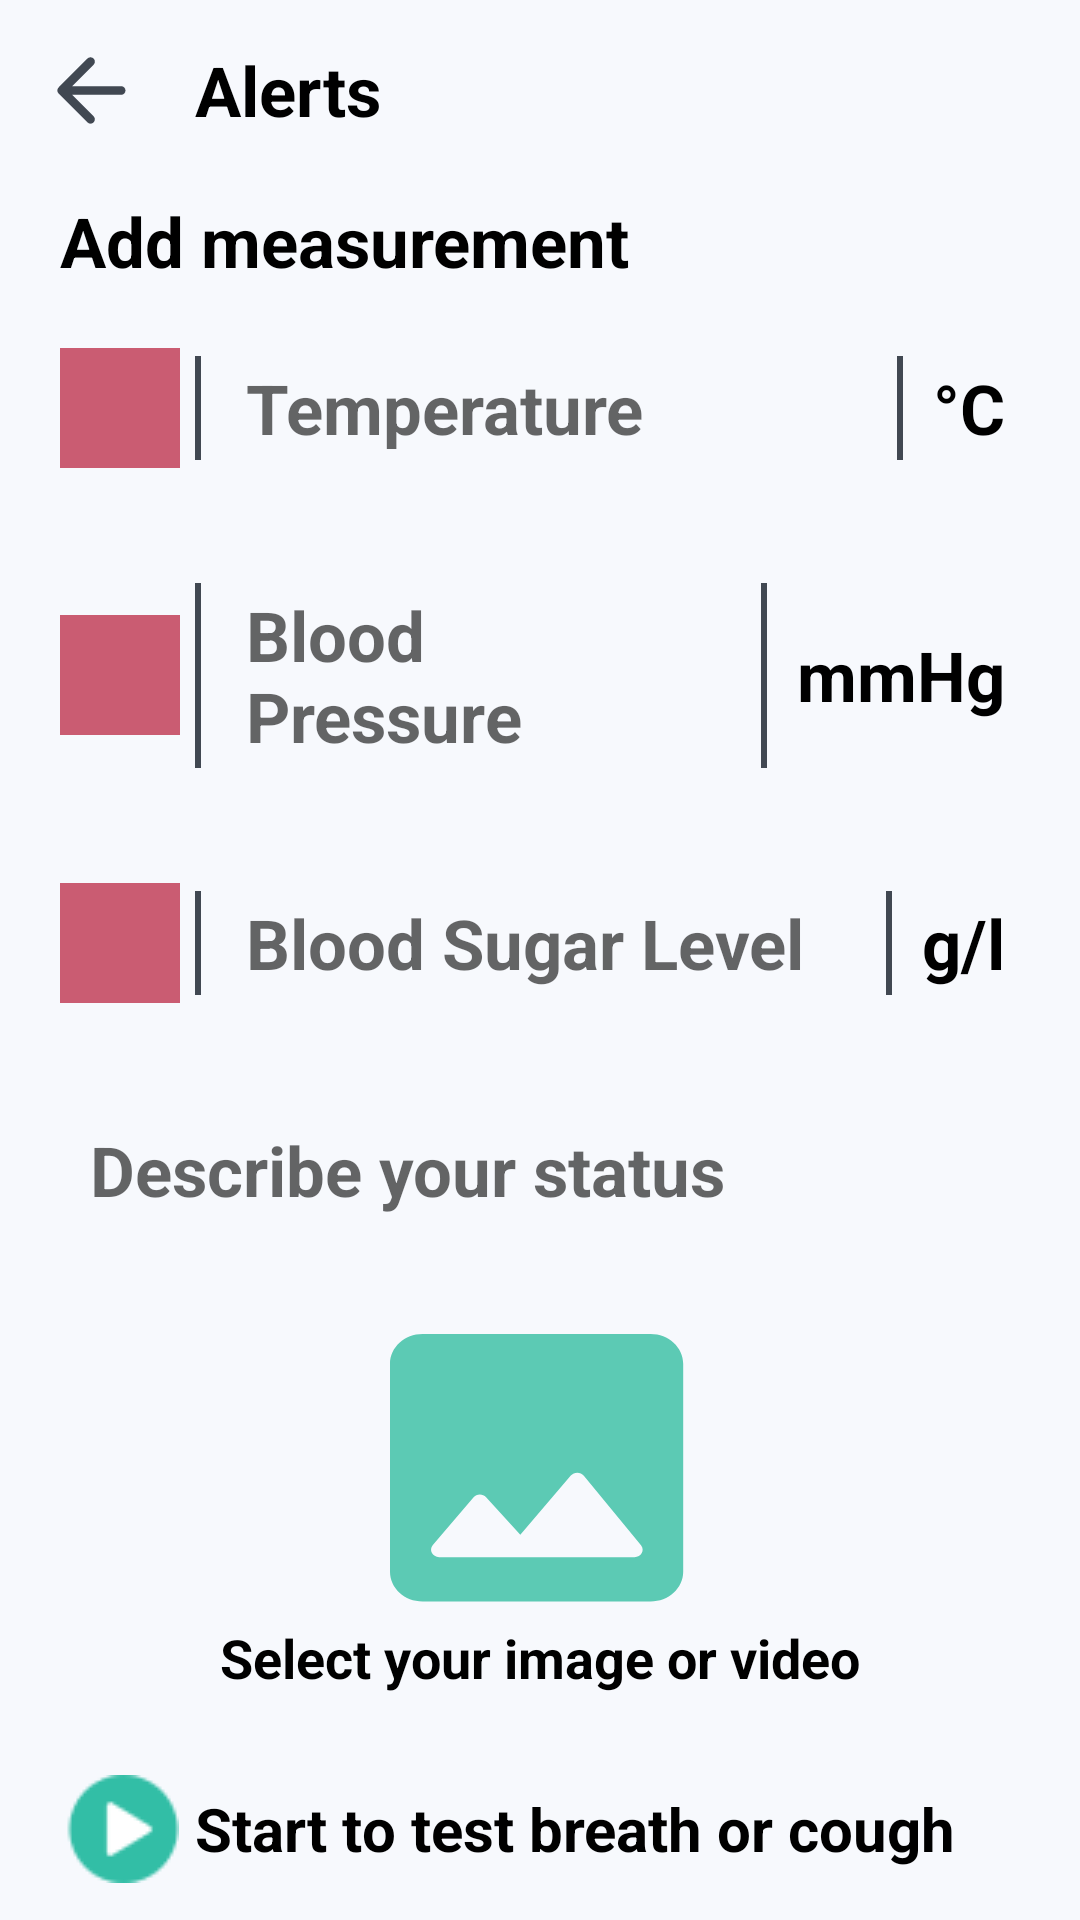

Icon click points for this 1080×1920 phone screenshot, format (x=x, y=y):
back: (x=91, y=90)
play: (x=123, y=1829)
